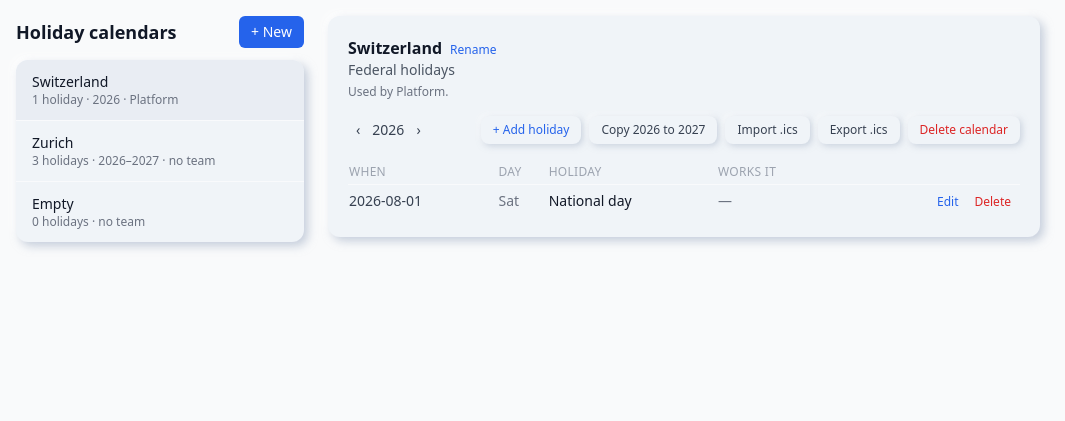
Test: CalendarsPage — editing a calendar › keeps the new-calendar form open with the server's reason, and Cancel drops it
Expected: the element "Switzerland" is shown, [328,16,1040,237]
Click the button "+ New": (272, 32) [239,16,304,48]
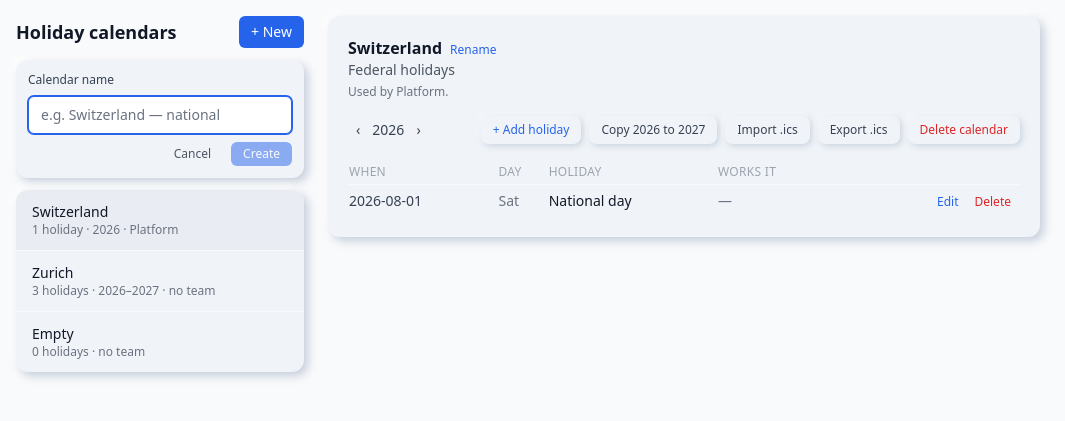
In the field labelled "Calendar name": (160, 115) [28,96,292,134], type "Switzerland"
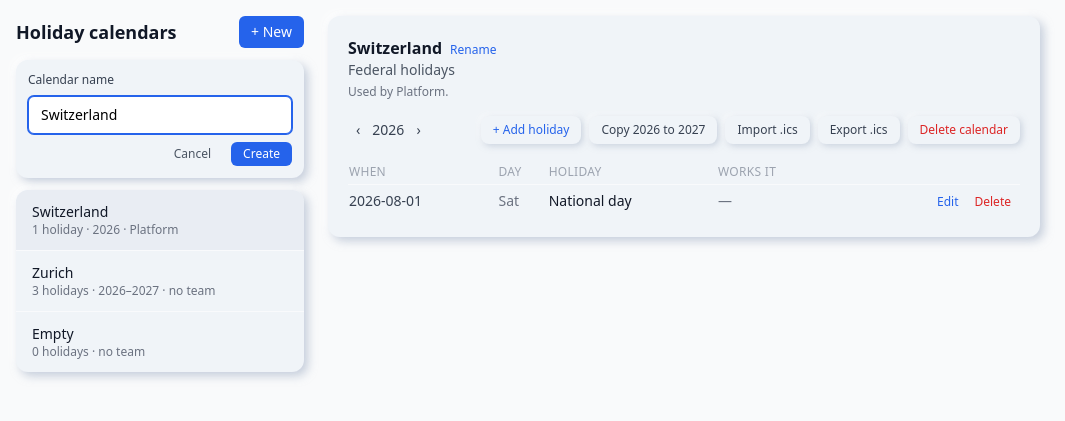
Click the button "Create": (262, 154) [231,142,292,166]
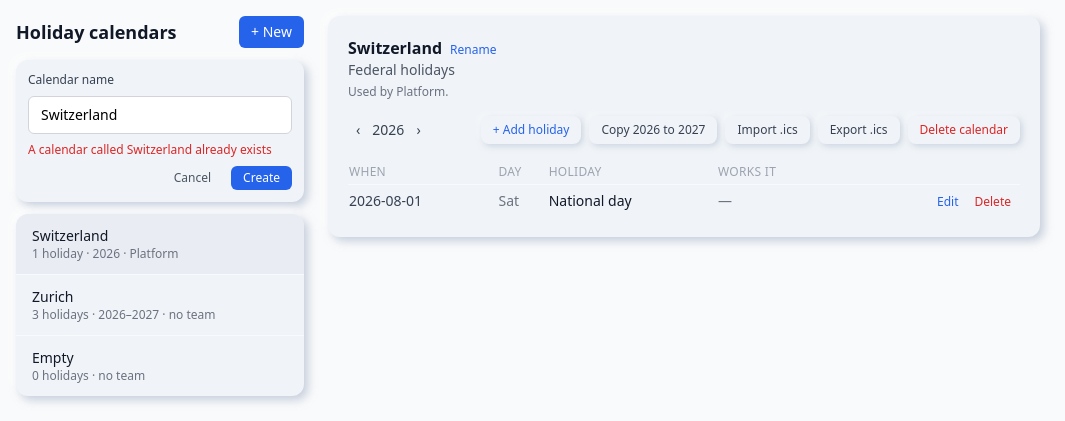
Result: the message reads "A calendar called Switzerland already exists" at [28,141,272,158]
Click the button "Cancel": (192, 178) [162,166,223,190]
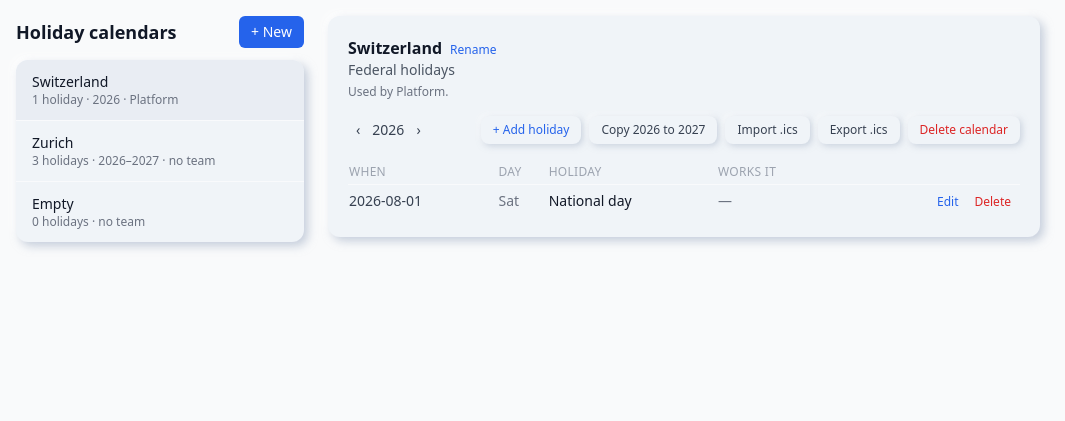
Expected: the element "Switzerland" is shown, [328,16,1040,237]
Result: the label labelled "Calendar name" is gone
